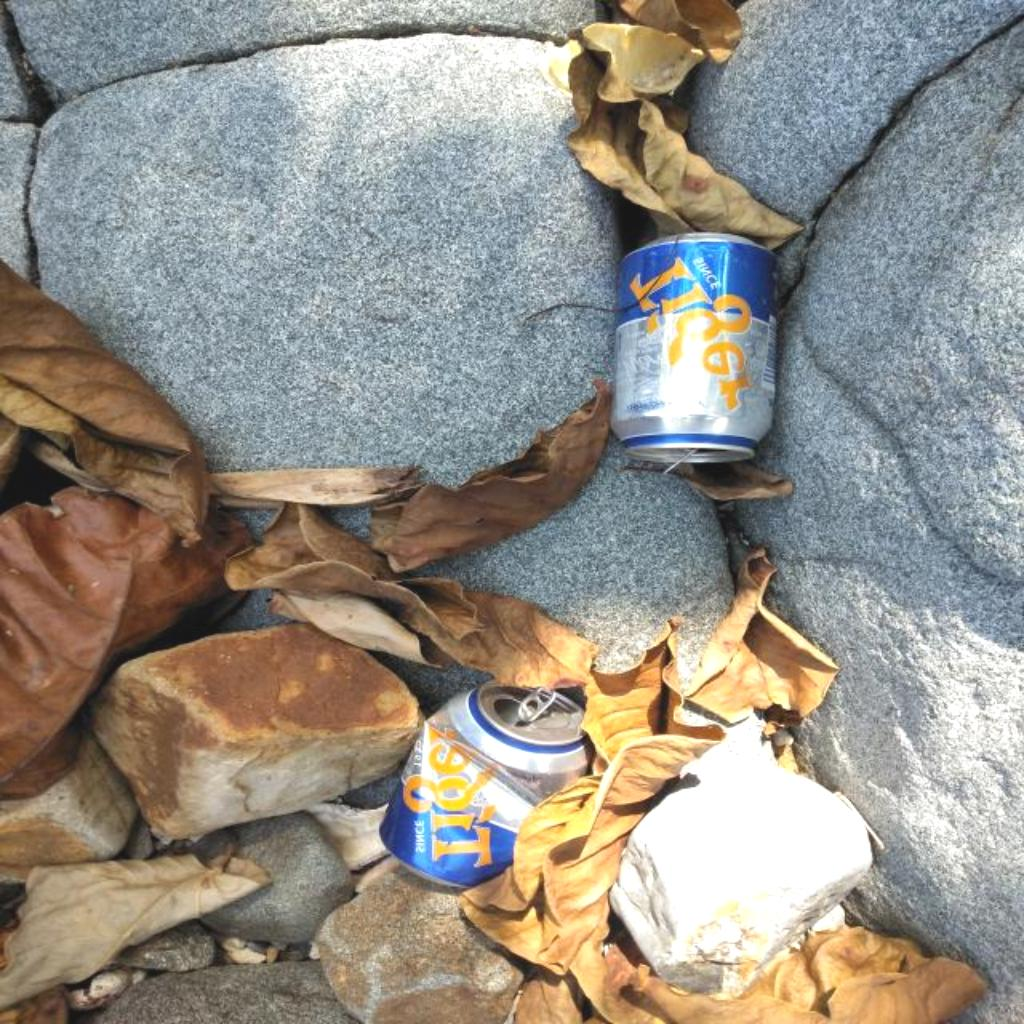garbage: (366, 686, 591, 890), (604, 228, 787, 468)
